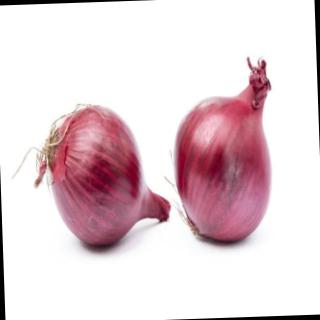Bawang Merah: (168, 54, 283, 250), (31, 100, 174, 255)
